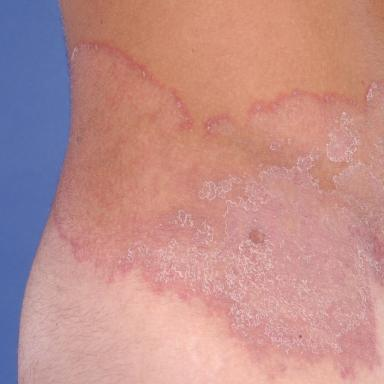Tinea-Corporis: (54, 44, 384, 373)
